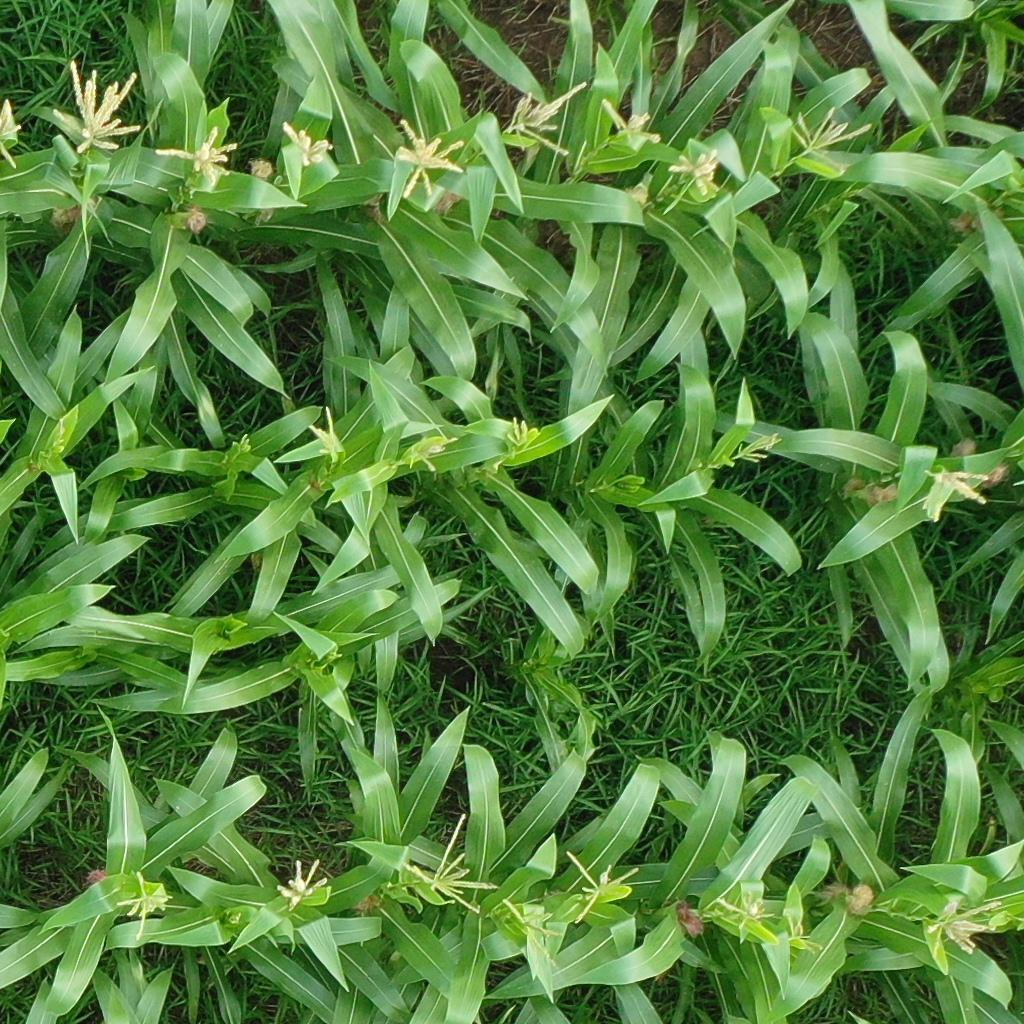Tassel: (385, 808, 500, 914), (46, 58, 143, 155), (785, 102, 878, 179), (505, 81, 593, 157), (393, 118, 467, 200), (565, 849, 641, 927), (154, 125, 247, 184), (929, 894, 1004, 956), (110, 870, 172, 945), (917, 464, 992, 522), (501, 895, 560, 963), (666, 149, 729, 206), (601, 94, 664, 148), (280, 118, 337, 171), (275, 858, 330, 910), (308, 402, 350, 464), (716, 889, 774, 932), (404, 434, 456, 477), (783, 907, 827, 955), (730, 431, 784, 469), (501, 416, 544, 451), (1, 98, 22, 168), (48, 419, 71, 459), (237, 433, 254, 460), (227, 911, 246, 926)
